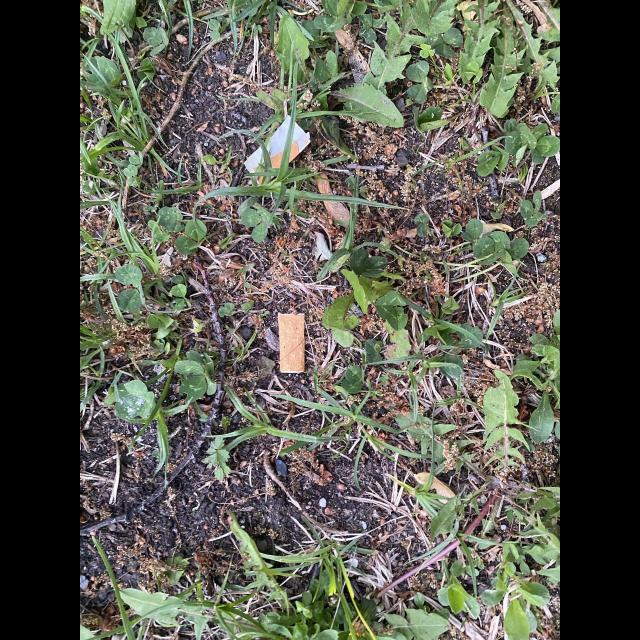cigarette: (243, 115, 311, 187), (278, 312, 304, 373)
